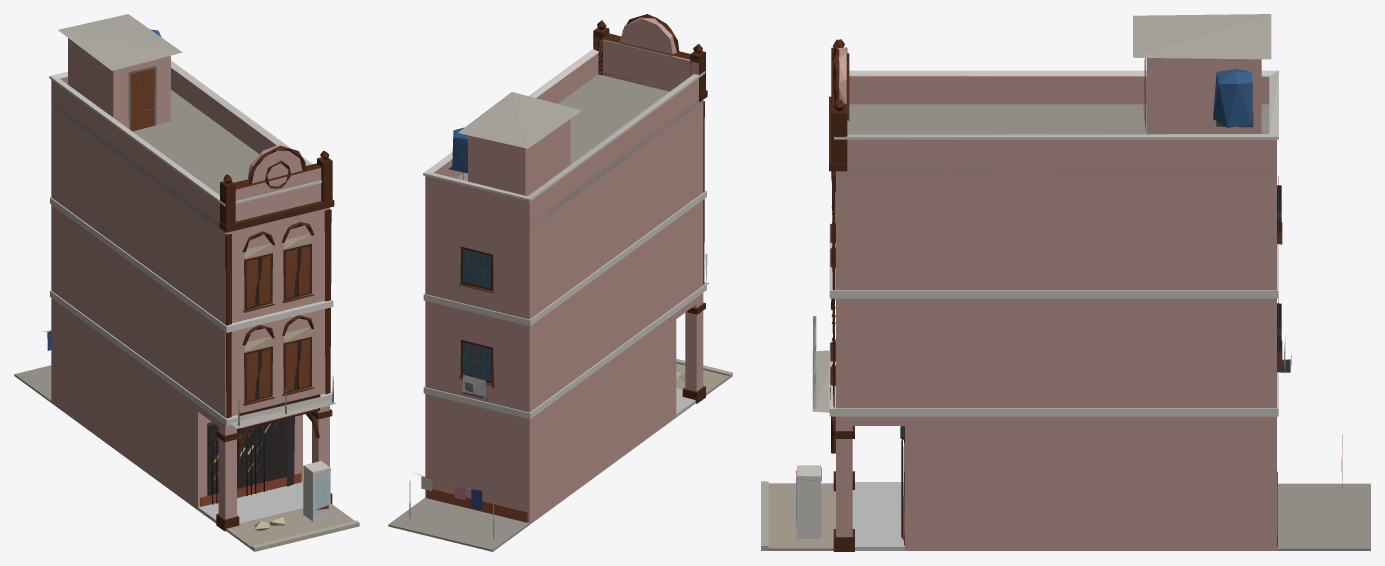
File: bay2_mid2.glb
The picture shows the model from 3 angles, left to right: view 1: azimuth 30°, elevation 25°; view 2: azimuth 150°, elevation 25°; view 3: azimuth 270°, elevation 25°; orthographic projection. The views are drawn at different scales.
Parts seen in each view (by area): view 1: body, windows; view 2: body, windows; view 3: body.
Boxes of the visible parts, x1,y1,x2,y2 form: body: (14,14,359,551); windows: (207,246,310,495); body: (388,14,732,551); windows: (462,249,491,381); body: (761,14,1370,551).
Bounding box in the file's own units: 4.12 × 13.66 × 15.9.
